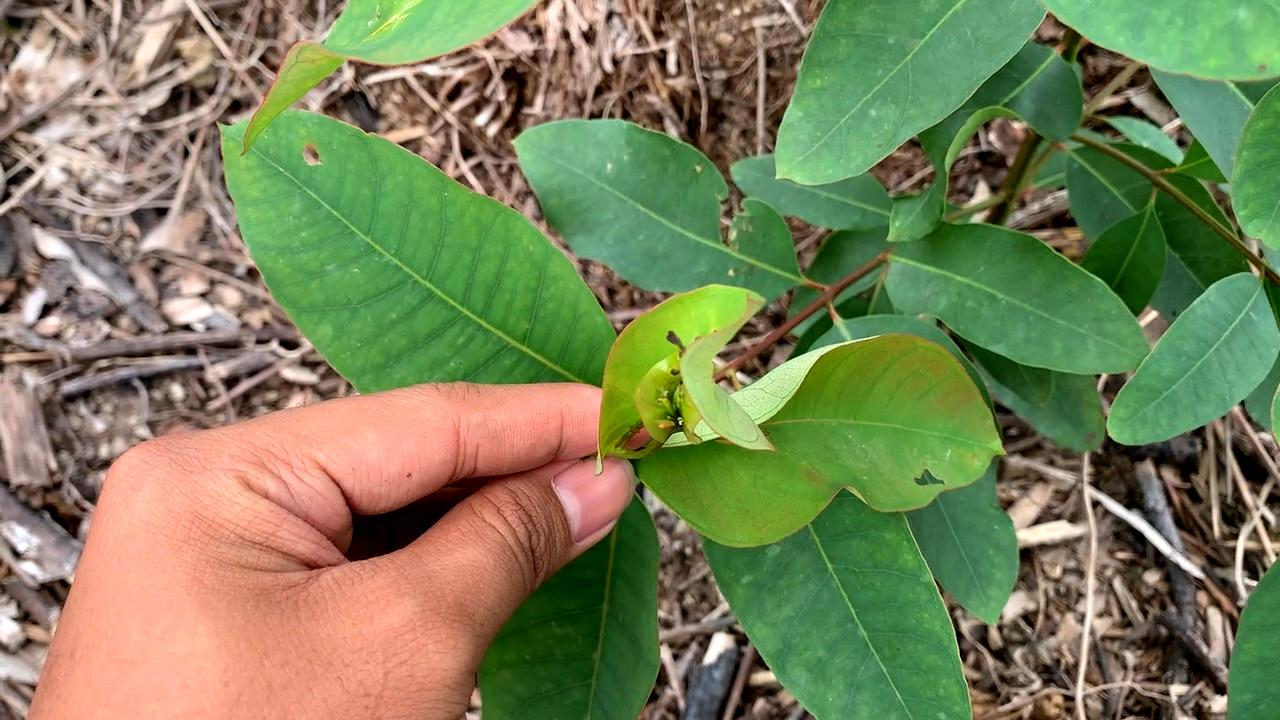Leaf Roller - Leaf: (582, 262, 786, 486)
